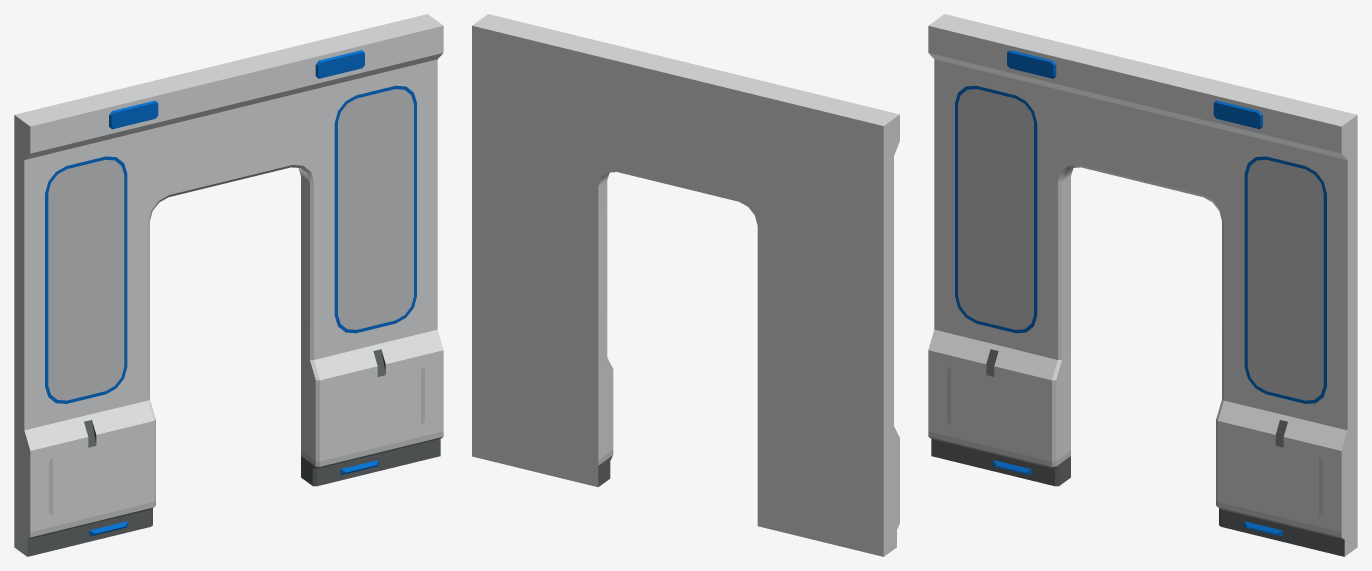
The model's file is Wall_type_A_019.fbx.
3 renders of one model, left to right at view 1: azimuth 30°, elevation 25°; view 2: azimuth 150°, elevation 25°; view 3: azimuth 330°, elevation 25°, orthographic.
Visible parts, largest first — view 1: Wall_type_A_019; view 2: Wall_type_A_019; view 3: Wall_type_A_019.
Boxes of the visible parts, x1,y1,x2,y2 form: Wall_type_A_019: [14, 14, 443, 556]; Wall_type_A_019: [472, 14, 899, 556]; Wall_type_A_019: [928, 14, 1357, 556].
Bounding box in the file's own units: 400 × 28.98 × 400.
